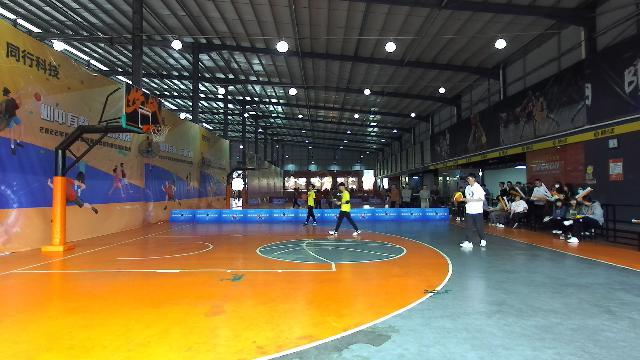ball: (453, 191, 463, 201), (302, 193, 306, 199)
basket: (150, 124, 170, 142)
